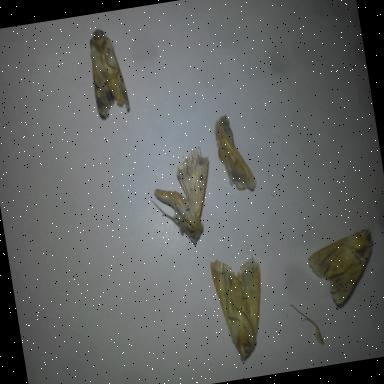abw: (142, 142, 224, 252), (206, 246, 278, 368), (301, 223, 384, 316), (80, 21, 134, 123), (207, 107, 260, 198)
